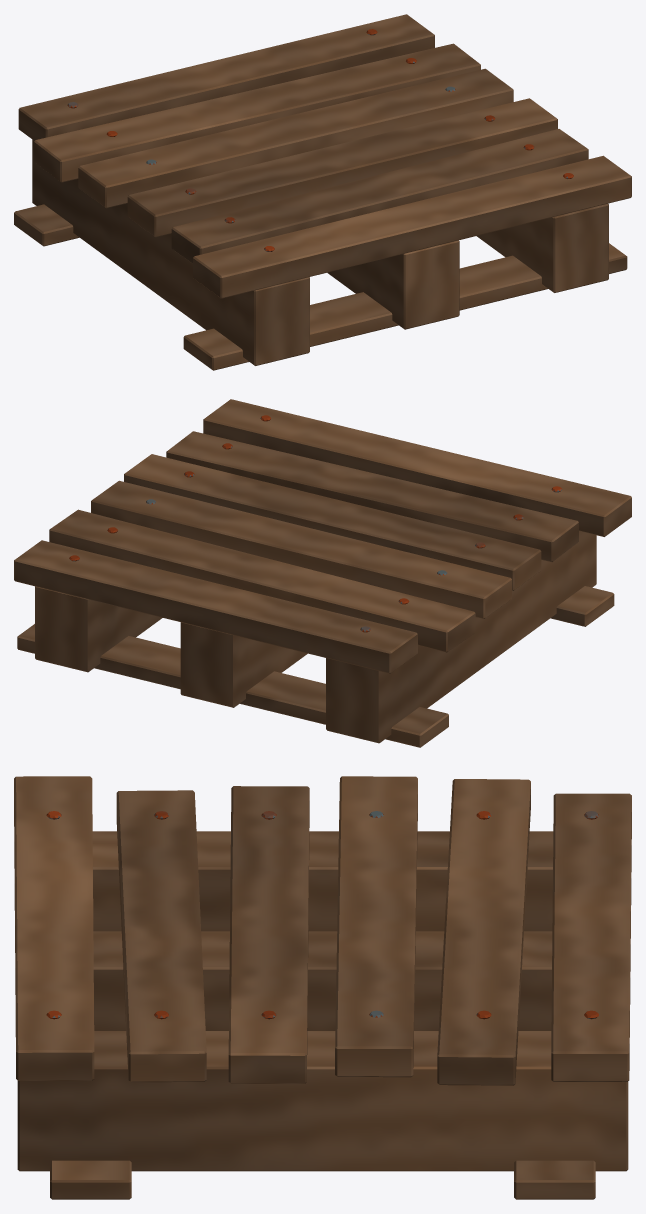
The model's file is pallet-3.glb.
The picture shows the model from 3 angles, top to bottom: view 1: azimuth 30°, elevation 25°; view 2: azimuth 150°, elevation 25°; view 3: azimuth 270°, elevation 25°; orthographic projection. The views are drawn at different scales.
Visible parts, largest first — view 1: pallet-3; view 2: pallet-3; view 3: pallet-3.
Boxes of the visible parts, x1,y1,x2,y2 form: pallet-3: (14, 14, 631, 370); pallet-3: (14, 399, 631, 747); pallet-3: (14, 776, 631, 1199).
Bounding box in the file's own units: 0.9765 × 0.241 × 0.9086.
2 materials, 2 textured.
